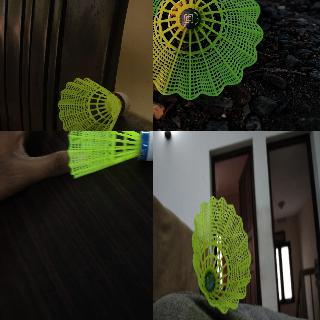shuttlecock: (153, 0, 265, 98), (192, 195, 251, 313), (66, 131, 152, 179), (57, 77, 130, 130)
